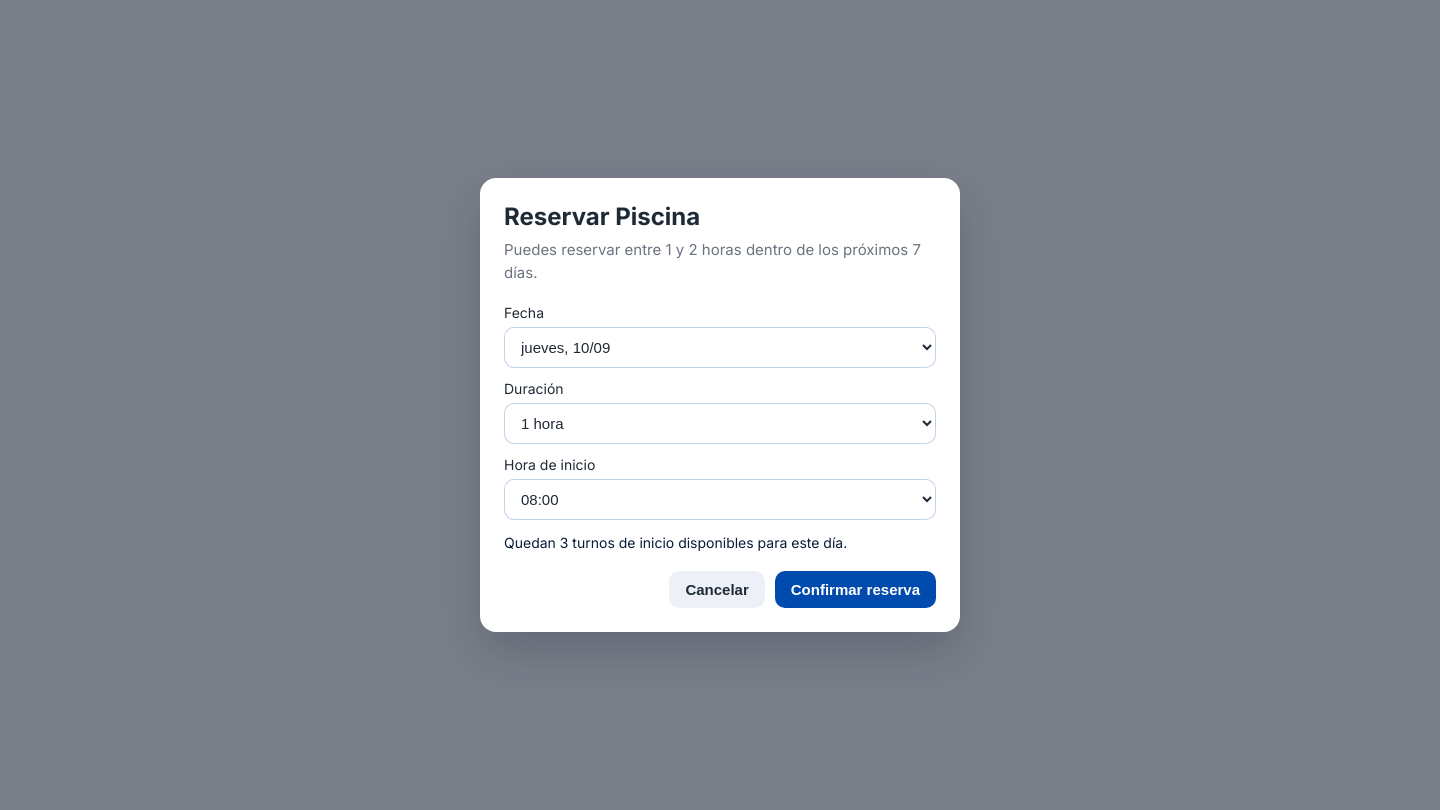
it: CommonAreaReservationForm component test suite › should reset selected start hour when duration changes and current hour is no longer available
Expected: the dropdown labelled "Hora de inicio" shows "08:00", [504,479,936,520]
Select "2 horas" in the dropdown labelled "Duración" at point(720, 424), box [504,403,936,444]
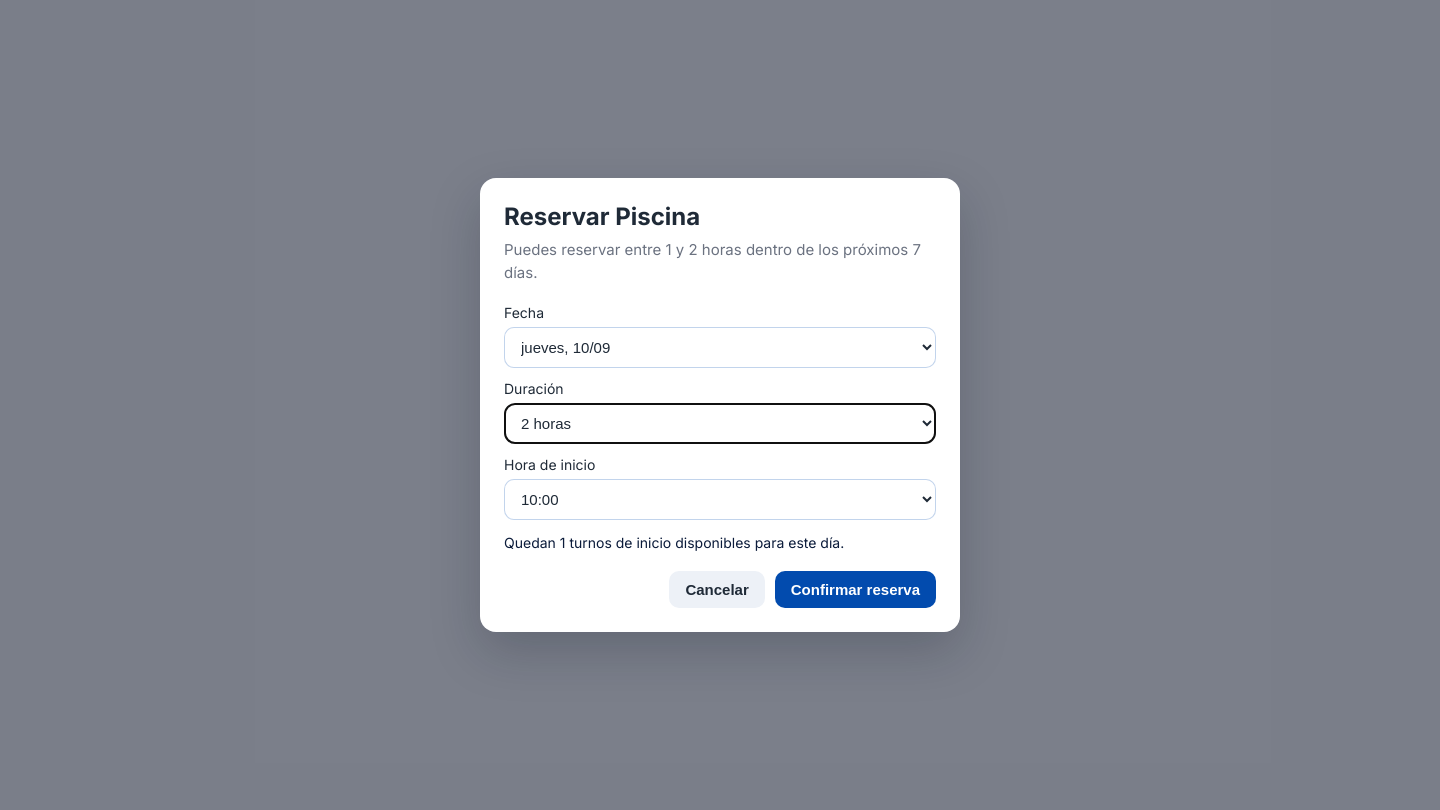
Result: the dropdown labelled "Hora de inicio" shows "10:00" at [504,479,936,520]
